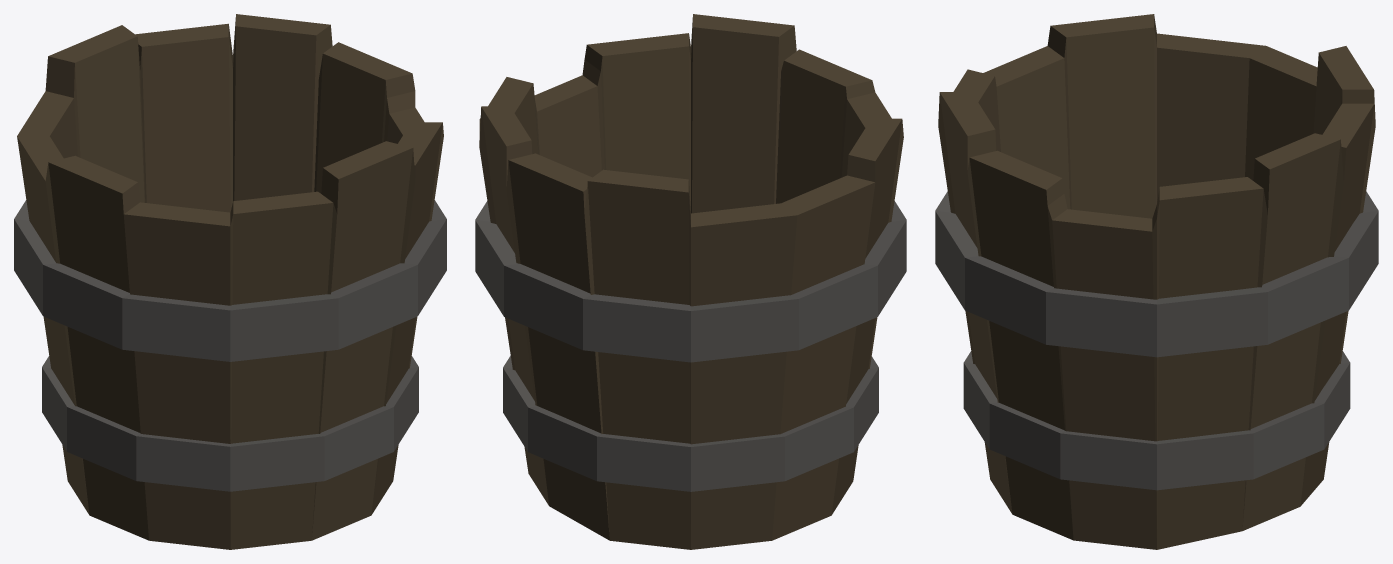
The model's file is Balde.fbx.
3 renders of one model, left to right at view 1: azimuth 30°, elevation 25°; view 2: azimuth 150°, elevation 25°; view 3: azimuth 270°, elevation 25°, orthographic. The views are drawn at different scales.
Parts seen in each view (by area): view 1: Bucket_Body, Bucjet_Bar_1, Bucket; view 2: Bucket_Body, Bucjet_Bar_1, Bucket; view 3: Bucket_Body, Bucjet_Bar_1, Bucket.
Part boxes in pixels (x1=…): Bucket_Body: x1=17, y1=14, x2=443, y2=549; Bucjet_Bar_1: x1=14, y1=200, x2=446, y2=361; Bucket: x1=42, y1=356, x2=418, y2=491; Bucket_Body: x1=479, y1=14, x2=903, y2=549; Bucjet_Bar_1: x1=475, y1=201, x2=906, y2=362; Bucket: x1=503, y1=356, x2=878, y2=491; Bucket_Body: x1=938, y1=14, x2=1375, y2=549; Bucjet_Bar_1: x1=935, y1=191, x2=1378, y2=357; Bucket: x1=963, y1=351, x2=1350, y2=490.
Size of the model in its own units: 2.14 by 2.07 by 2.14.
